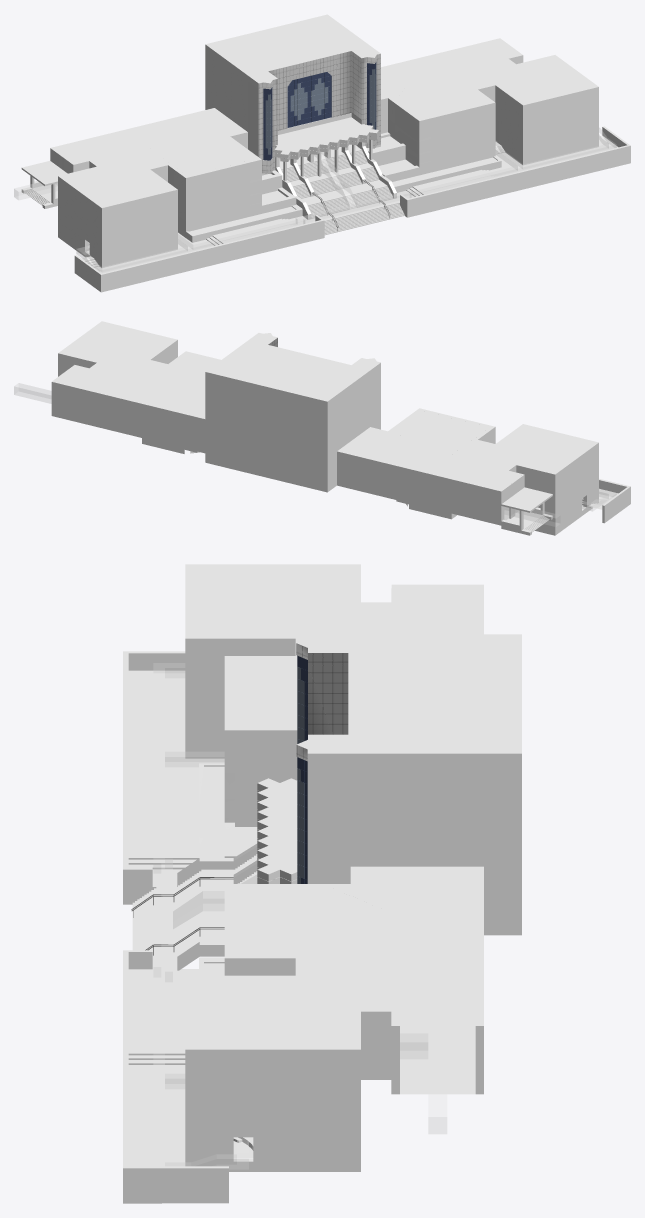
File: ntic_mesh.gltf
The picture shows the model from 3 angles, top to bottom: view 1: azimuth 30°, elevation 25°; view 2: azimuth 150°, elevation 25°; view 3: azimuth 270°, elevation 25°; orthographic projection. The views are drawn at different scales.
Visible parts, largest first — view 1: 7arf_right, 7arf_left, center_keep, amphi_01, amphi_04, center_roof, main_entrance_floor, amphi_03, amphi_02, route_keep, left_roof, right_roof (+12 smaller); view 2: center, left, center_roof, right, left_roof, amphi_01, right_roof, amphi_04_roof, amphi_01_roof, amphi_02_roof, amphi_03_roof, route_keep (+7 smaller); view 3: center_roof, amphi_04, center, 7arf_left, 7arf_right, right_roof, route_keep, amphi_04_roof, amphi_01_roof, amphi_03_roof, amphi_01, main_entrance_floor (+10 smaller).
Boxes of the visible parts, bbox=[...] form: 7arf_right: bbox=[356, 126, 630, 217]; 7arf_left: bbox=[74, 170, 324, 292]; center_keep: bbox=[258, 50, 380, 173]; amphi_01: bbox=[58, 165, 177, 267]; amphi_04: bbox=[498, 55, 598, 165]; center_roof: bbox=[208, 15, 379, 122]; main_entrance_floor: bbox=[279, 144, 404, 235]; amphi_03: bbox=[395, 70, 495, 175]; amphi_02: bbox=[142, 135, 261, 237]; route_keep: bbox=[14, 128, 616, 272]; left_roof: bbox=[54, 109, 235, 170]; right_roof: bbox=[381, 40, 520, 100]; center: bbox=[205, 333, 380, 492]; left: bbox=[337, 426, 522, 525]; center_roof: bbox=[208, 333, 378, 449]; right: bbox=[51, 357, 205, 453]; left_roof: bbox=[339, 429, 520, 489]; amphi_01: bbox=[499, 424, 598, 535]; right_roof: bbox=[54, 358, 205, 416]; amphi_04_roof: bbox=[64, 323, 171, 363]; amphi_01_roof: bbox=[500, 426, 592, 471]; amphi_02_roof: bbox=[397, 410, 489, 506]; amphi_03_roof: bbox=[148, 353, 218, 453]; route_keep: bbox=[14, 383, 616, 526]; center_roof: bbox=[300, 634, 517, 866]; amphi_04: bbox=[185, 975, 360, 1171]; center: bbox=[307, 634, 521, 935]; 7arf_left: bbox=[123, 651, 257, 904]; 7arf_right: bbox=[123, 950, 228, 1203]; right_roof: bbox=[293, 866, 475, 1025]; route_keep: bbox=[153, 663, 446, 1169]; amphi_04_roof: bbox=[194, 979, 360, 1046]; amphi_01_roof: bbox=[194, 568, 360, 635]; amphi_03_roof: bbox=[233, 887, 391, 954]; amphi_01: bbox=[185, 564, 360, 758]; main_entrance_floor: bbox=[132, 854, 257, 967].
Size of the model in its own units: 77.94 by 17.25 by 24.82.
Materials: 34 (1 with a texture image).
